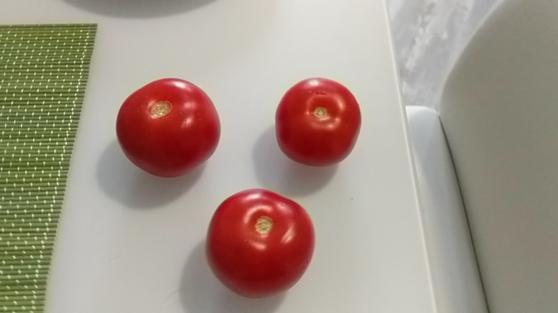tomato: (203, 189, 316, 298), (114, 77, 222, 178), (272, 76, 366, 168)
